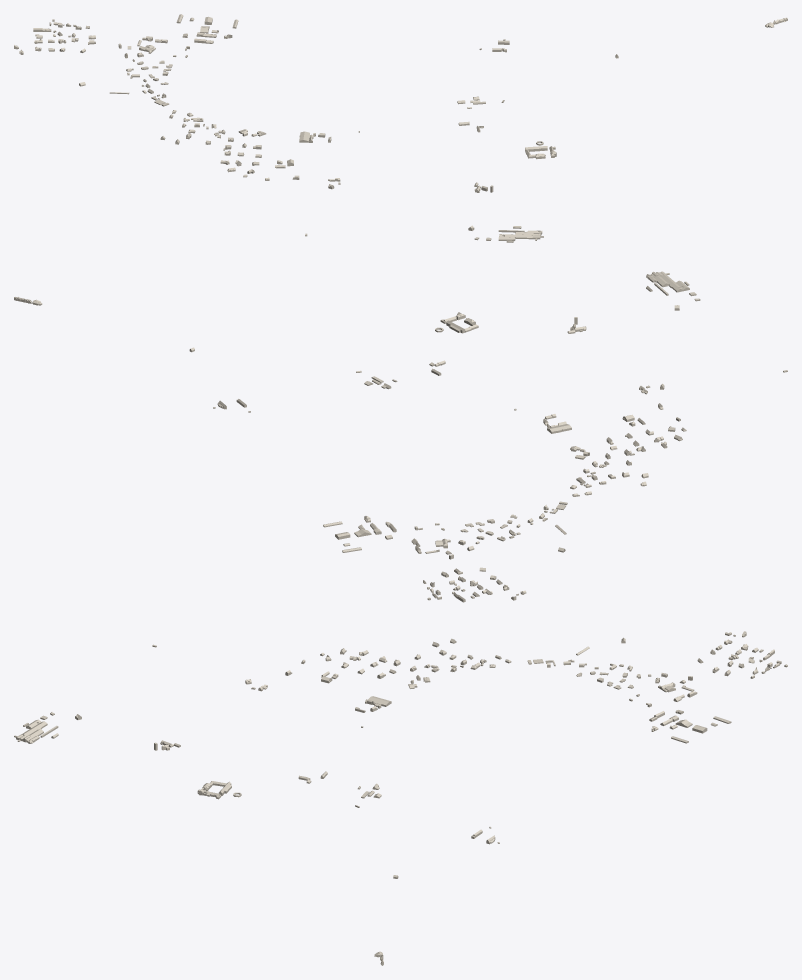
3 renders of one model, top to bottom at view 1: azimuth 30°, elevation 25°; view 2: azimuth 150°, elevation 25°; view 3: azimuth 270°, elevation 25°, orthographic. The views are drawn at different scales.
Bounding box in the file's own units: 1762 × 24.47 × 1742.
